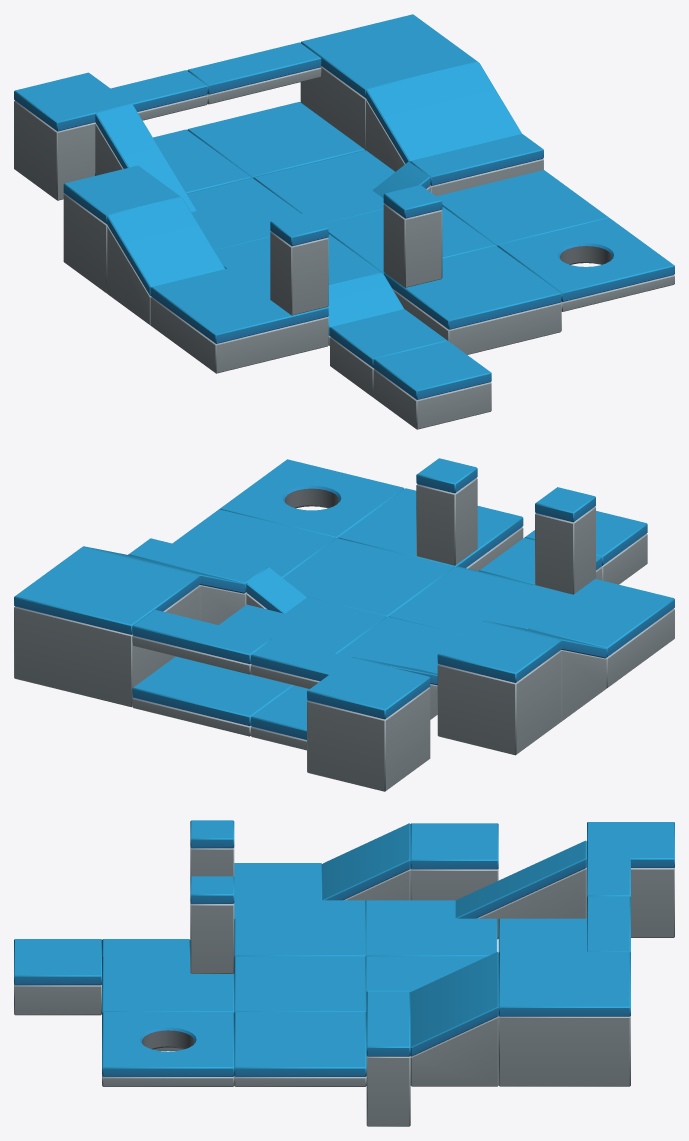
The model's file is level.glb.
3 renders of one model, top to bottom at view 1: azimuth 30°, elevation 25°; view 2: azimuth 150°, elevation 25°; view 3: azimuth 270°, elevation 25°, orthographic. The views are drawn at different scales.
Parts seen in each view (by area): view 1: platform_6x6x2_blue, platform_6x6x2_blue.001, platform_slope_6x4x4_blue, platform_6x6x4_blue, platform_hole_6x6x1_blue, platform_4x4x4_blue.001, platform_slope_4x4x4_blue, platform_4x4x2_blue.001, platform_6x6x1_blue.002, platform_6x6x1_blue.006, platform_4x4x4_blue, platform_6x6x1_blue.001 (+13 smaller); view 2: platform_6x6x4_blue, platform_4x4x4_blue, platform_4x4x4_blue.001, platform_6x6x2_blue, platform_hole_6x6x1_blue, platform_6x6x1_blue.004, platform_6x6x1_blue.002, platform_2x2x4_blue.001, platform_2x2x4_blue, platform_6x6x1_blue.006, platform_6x6x2_blue.001, platform_6x6x1_blue.005 (+12 smaller); view 3: platform_6x6x4_blue, platform_slope_6x4x4_blue, platform_6x6x1_blue.006, platform_hole_6x6x1_blue, platform_6x6x1_blue.005, platform_6x6x1_blue.004, platform_6x6x1_blue, platform_4x4x2_blue.001, platform_6x6x2_blue.001, platform_slope_2x6x4_blue, platform_4x4x4_blue, platform_4x4x4_blue.001 (+10 smaller).
Boxes of the visible parts, x1,y1,x2,y2 form: platform_6x6x2_blue: [151, 266, 328, 373]; platform_6x6x2_blue.001: [384, 245, 561, 354]; platform_slope_6x4x4_blue: [366, 62, 521, 171]; platform_6x6x4_blue: [300, 14, 477, 150]; platform_hole_6x6x1_blue: [497, 218, 674, 311]; platform_4x4x4_blue.001: [14, 72, 130, 200]; platform_slope_4x4x4_blue: [107, 197, 224, 325]; platform_4x4x2_blue.001: [373, 341, 491, 429]; platform_6x6x1_blue.002: [187, 102, 364, 178]; platform_6x6x1_blue.006: [436, 170, 608, 245]; platform_4x4x4_blue: [63, 165, 181, 293]; platform_6x6x1_blue.001: [253, 150, 394, 223]; platform_6x6x4_blue: [14, 547, 199, 707]; platform_4x4x4_blue: [437, 621, 560, 755]; platform_4x4x4_blue.001: [307, 660, 430, 791]; platform_6x6x2_blue: [490, 579, 674, 688]; platform_hole_6x6x1_blue: [219, 459, 404, 538]; platform_6x6x1_blue.004: [283, 538, 454, 616]; platform_6x6x1_blue.002: [132, 656, 293, 736]; platform_2x2x4_blue.001: [416, 458, 477, 565]; platform_2x2x4_blue: [535, 487, 595, 594]; platform_6x6x1_blue.006: [172, 509, 335, 577]; platform_6x6x2_blue.001: [338, 488, 523, 570]; platform_6x6x1_blue.005: [388, 567, 553, 634]; platform_6x6x4_blue: [498, 951, 630, 1086]; platform_slope_6x4x4_blue: [410, 952, 498, 1086]; platform_6x6x1_blue.006: [234, 1012, 366, 1086]; platform_hole_6x6x1_blue: [102, 1012, 234, 1086]; platform_6x6x1_blue.005: [234, 900, 365, 956]; platform_6x6x1_blue.004: [234, 956, 365, 1012]; platform_6x6x1_blue: [365, 900, 497, 956]; platform_4x4x2_blue.001: [14, 939, 101, 1015]; platform_6x6x2_blue.001: [102, 956, 234, 1050]; platform_slope_2x6x4_blue: [455, 840, 586, 937]; platform_4x4x4_blue: [410, 823, 498, 939]; platform_4x4x4_blue.001: [587, 822, 674, 937].
Bounding box in the file's own units: 22 × 7 × 30.
25 materials, 25 textured.
